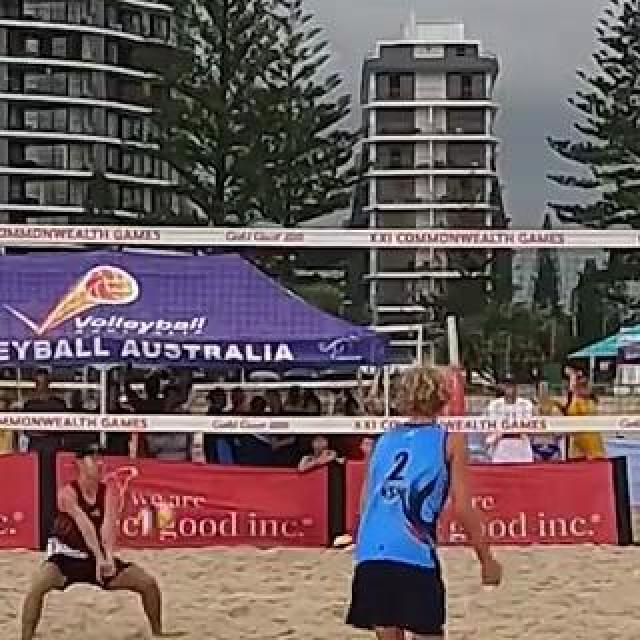volleyball: (141, 499, 173, 533), (333, 532, 357, 556)
